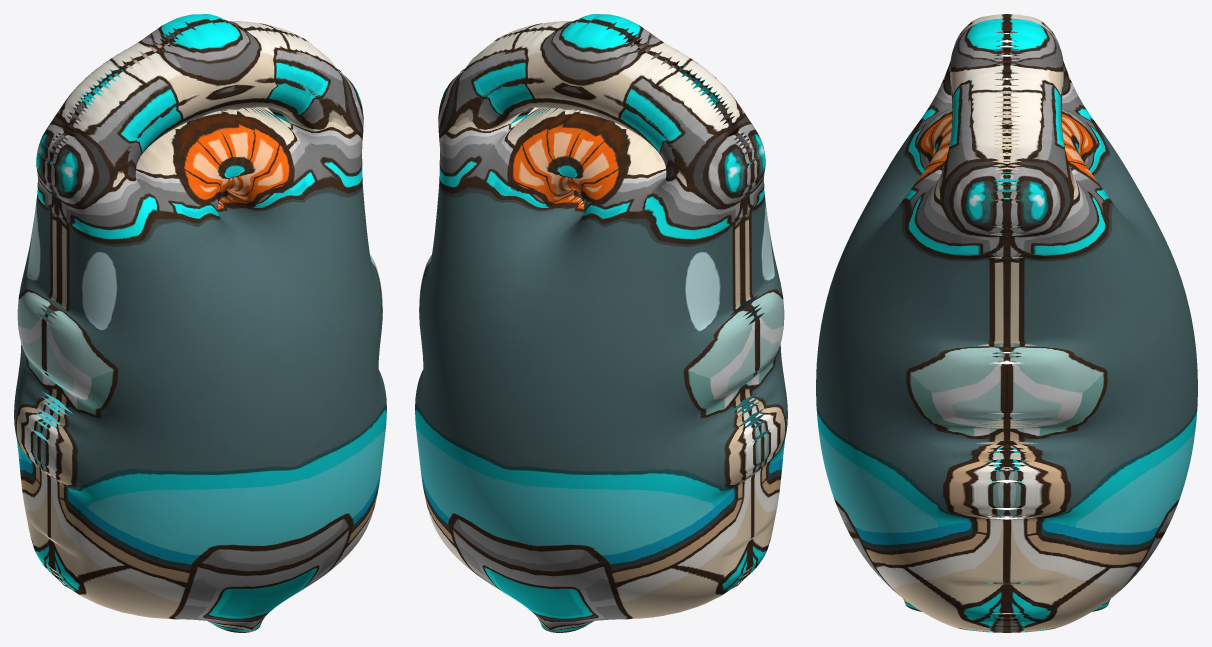
The model's file is sample_chamber.glb.
3 renders of one model, left to right at view 1: azimuth 30°, elevation 25°; view 2: azimuth 150°, elevation 25°; view 3: azimuth 270°, elevation 25°, orthographic.
Parts seen in each view (by area): view 1: sample_chamber; view 2: sample_chamber; view 3: sample_chamber.
Part boxes in pixels (x1,y1,x2,y2): sample_chamber: (14, 14, 386, 632); sample_chamber: (415, 14, 787, 632); sample_chamber: (816, 14, 1197, 632).
Bounding box in the file's own units: 0.9814 × 1.66 × 0.9968.
Materials: 1 (1 with a texture image).
